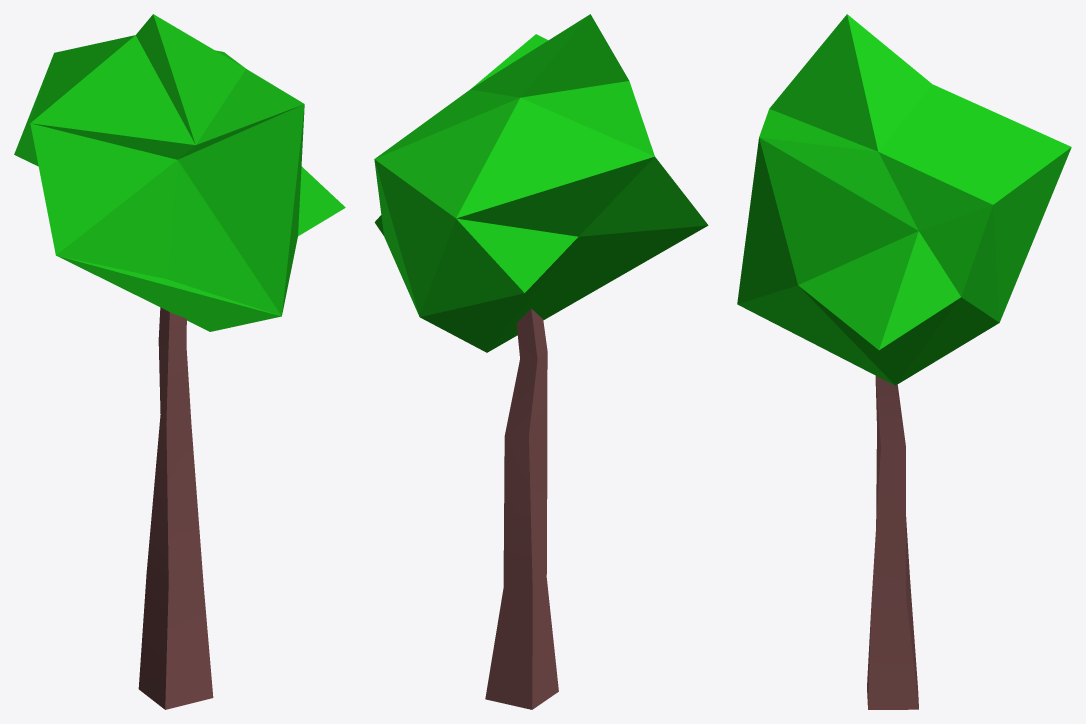
The model's file is tree2.fbx.
3 views of the same model, side by side, from view 1: azimuth 30°, elevation 25°; view 2: azimuth 150°, elevation 25°; view 3: azimuth 270°, elevation 25° (orthographic). The views are drawn at different scales.
Parts seen in each view (by area): view 1: GeoSphere001, Box001; view 2: GeoSphere001, Box001; view 3: GeoSphere001, Box001.
Part boxes in pixels (x1,y1,x2,y2): GeoSphere001: [14, 14, 345, 331]; Box001: [138, 307, 213, 709]; GeoSphere001: [374, 14, 708, 352]; Box001: [485, 308, 558, 709]; GeoSphere001: [737, 14, 1071, 385]; Box001: [867, 376, 918, 709].
Bounding box in the file's own units: 141 × 298 × 136.
